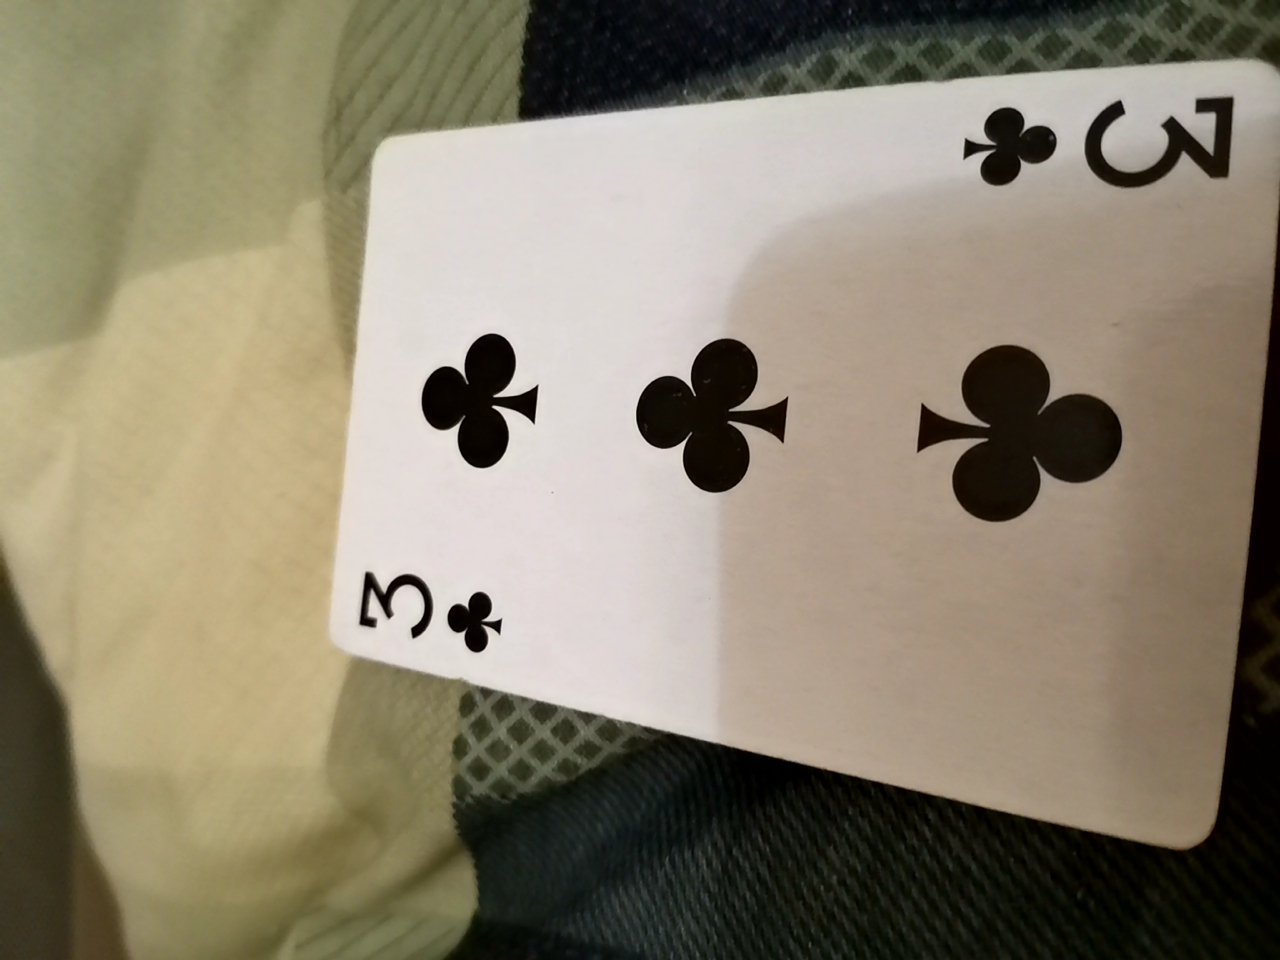mh 3: (296, 69, 1266, 871)
